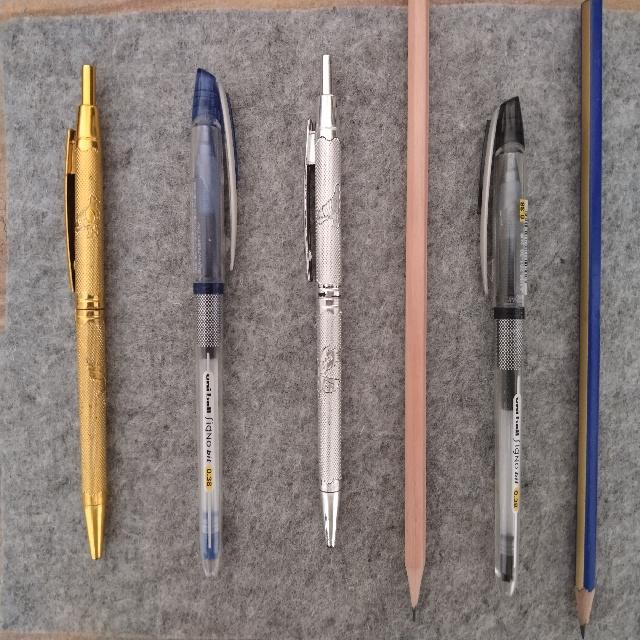pen: (480, 97, 527, 594), (191, 69, 236, 575)
pencil: (575, 0, 601, 637), (405, 0, 428, 617)
signature pen: (65, 65, 106, 558), (304, 55, 341, 546)
